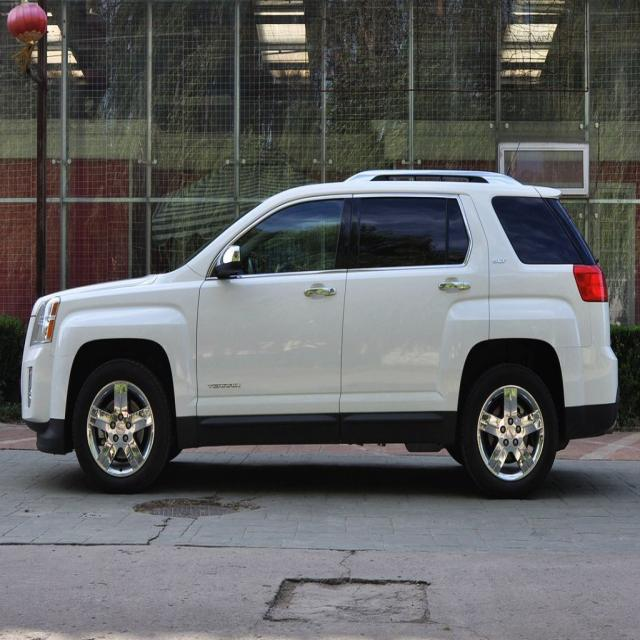back_left_side_light: (572, 263, 612, 304)
door: (347, 190, 489, 432)
front_bumper: (20, 336, 78, 448)
front_left_side_door: (193, 187, 358, 437)
front_left_side_light: (28, 292, 61, 348)
front_left_side_mirror: (210, 236, 248, 284)
rear_bumper: (562, 319, 626, 430)
wheel: (78, 356, 165, 488), (471, 364, 553, 494)
